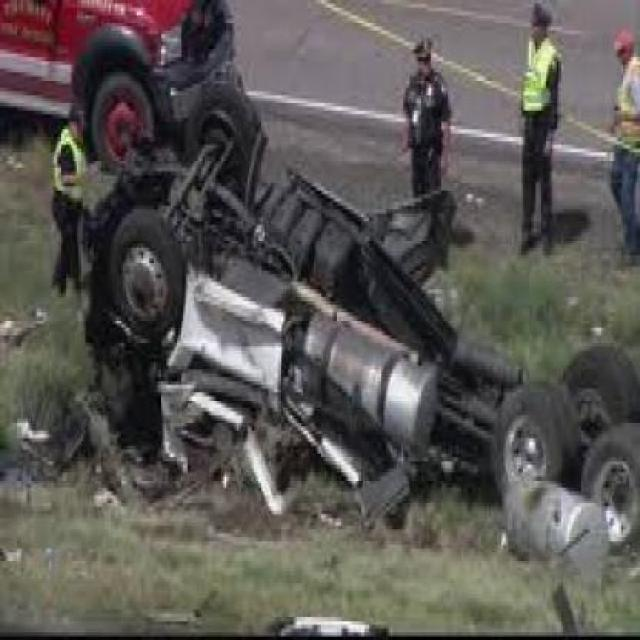accident: (44, 2, 640, 586)
